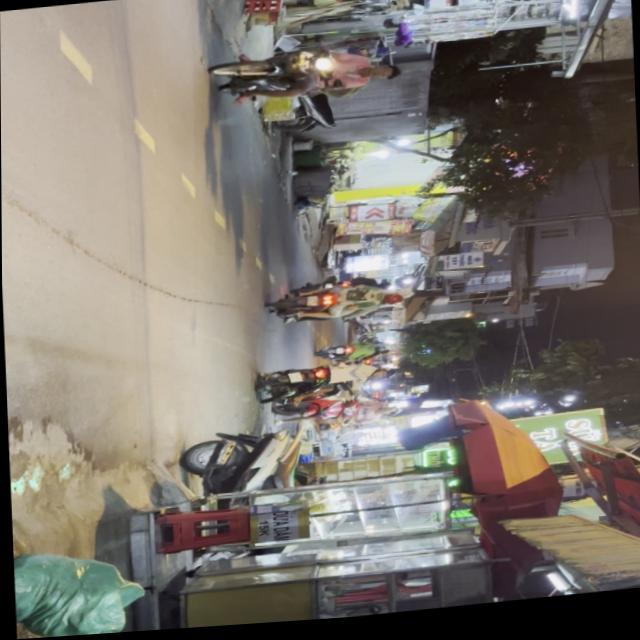licenseplate: (206, 40, 406, 111)
motorcyclist: (369, 65, 404, 86)
